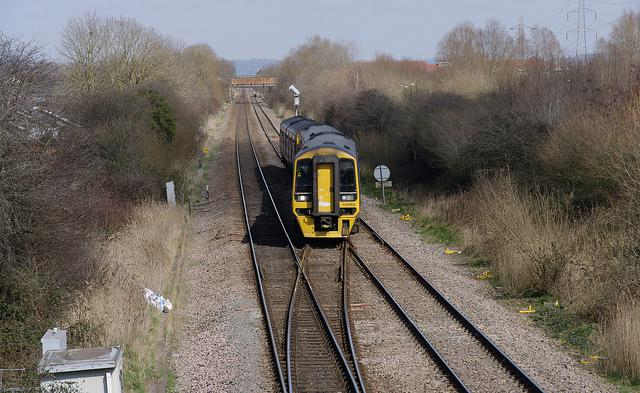Train: (270, 111, 364, 240)
